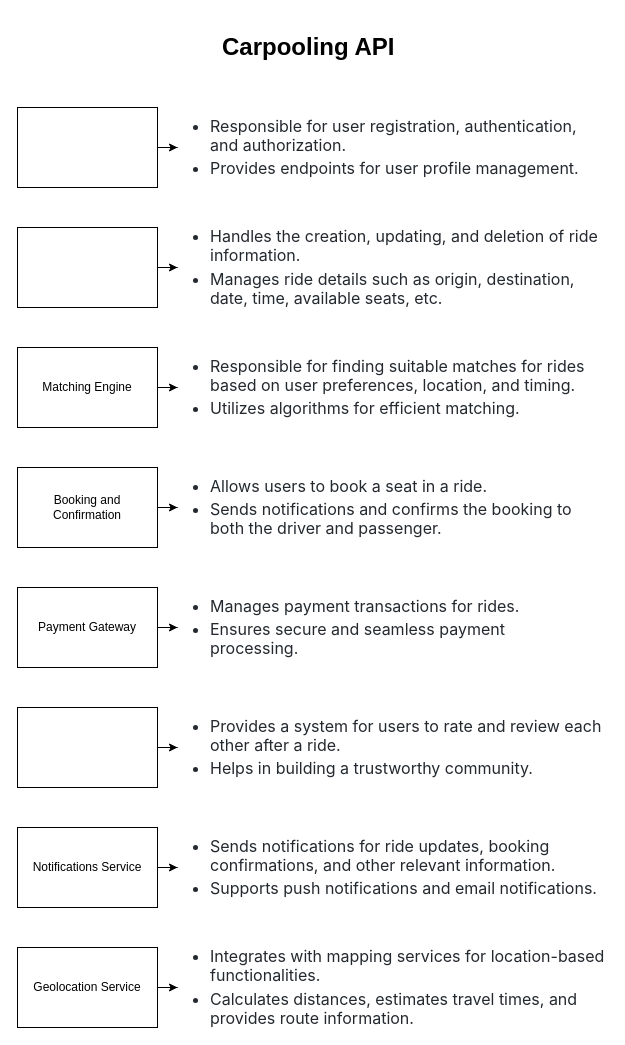
The diagram is 625 pixels wide and 1045 high, and some of its shapes have lost their labels. Here are the shapes that lost their labels. From the top down, the centre of each, then its label:
At point 87,147: "User Management".
At point 87,267: "Ride Management".
At point 87,747: "Rating and Review".
